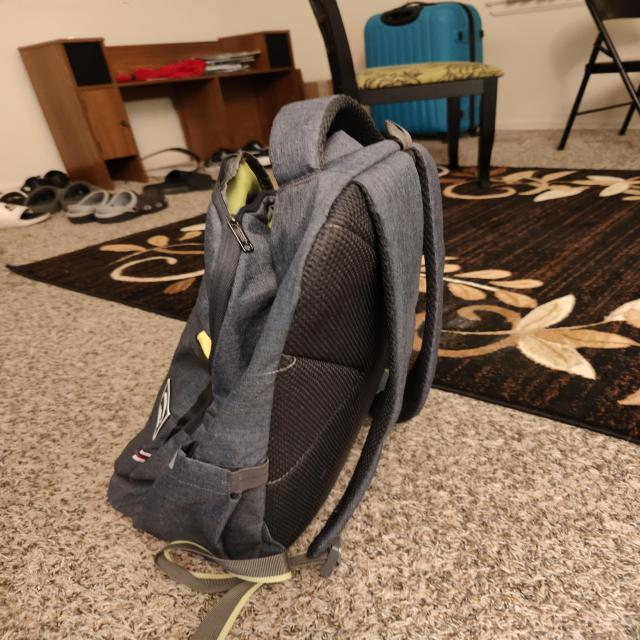bag: (111, 101, 445, 570)
